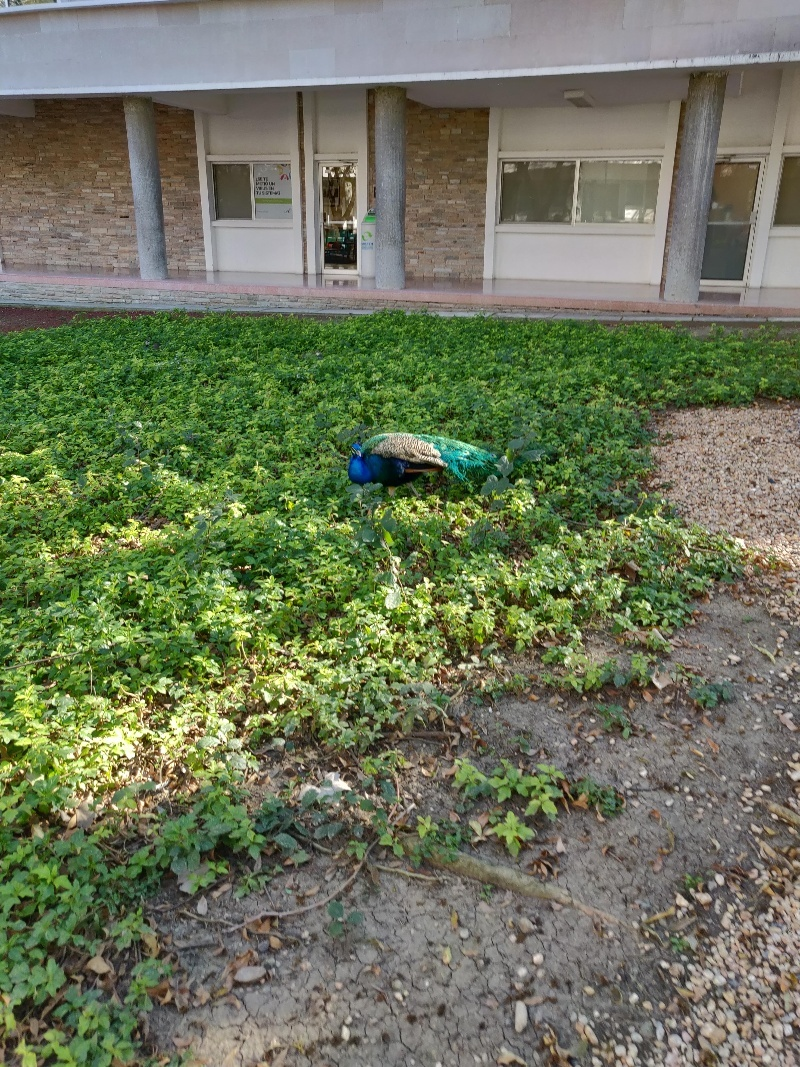pavoreal: (347, 428, 435, 489)
